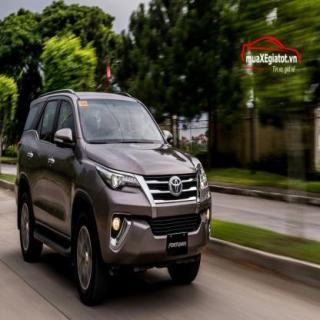Normal_vehicle: (16, 89, 211, 304)
